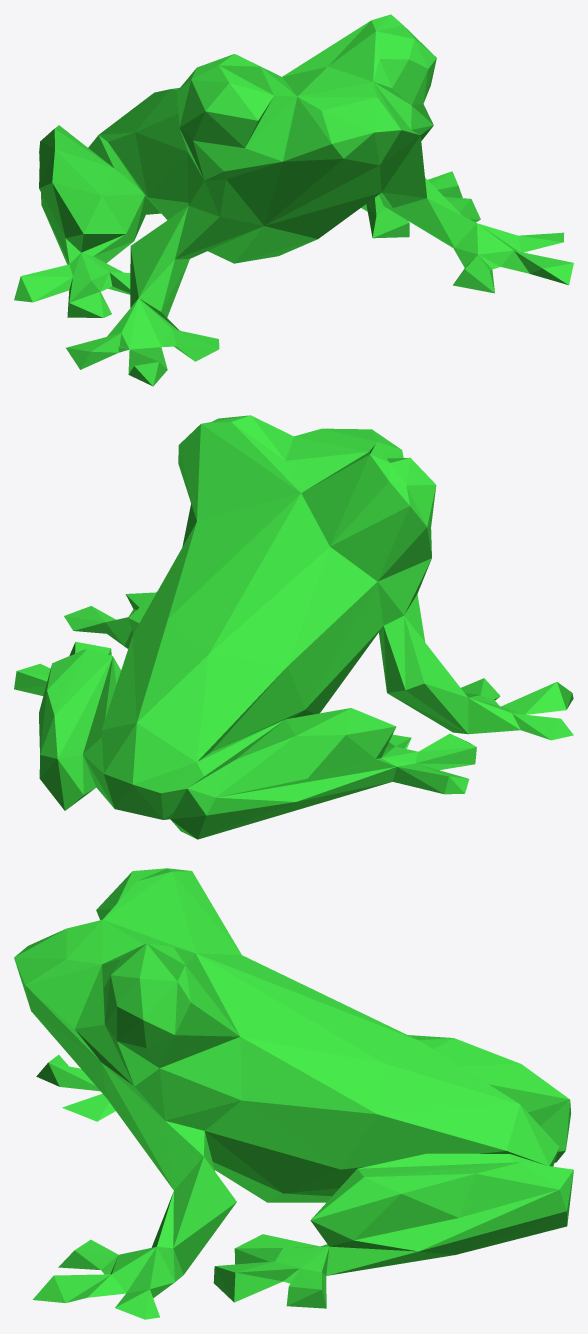
File: frog.glb
3 renders of one model, top to bottom at view 1: azimuth 30°, elevation 25°; view 2: azimuth 150°, elevation 25°; view 3: azimuth 270°, elevation 25°, orthographic. The views are drawn at different scales.
Visible parts, largest first — view 1: uploads_files_3858233_low_poly_tree_frog; view 2: uploads_files_3858233_low_poly_tree_frog; view 3: uploads_files_3858233_low_poly_tree_frog.
Part boxes in pixels (box(x1,y1,x2,y2)): uploads_files_3858233_low_poly_tree_frog: box(14, 14, 573, 386); uploads_files_3858233_low_poly_tree_frog: box(14, 415, 573, 839); uploads_files_3858233_low_poly_tree_frog: box(14, 868, 573, 1319).
Size of the model in its own units: 51.21 by 25.31 by 44.93.
